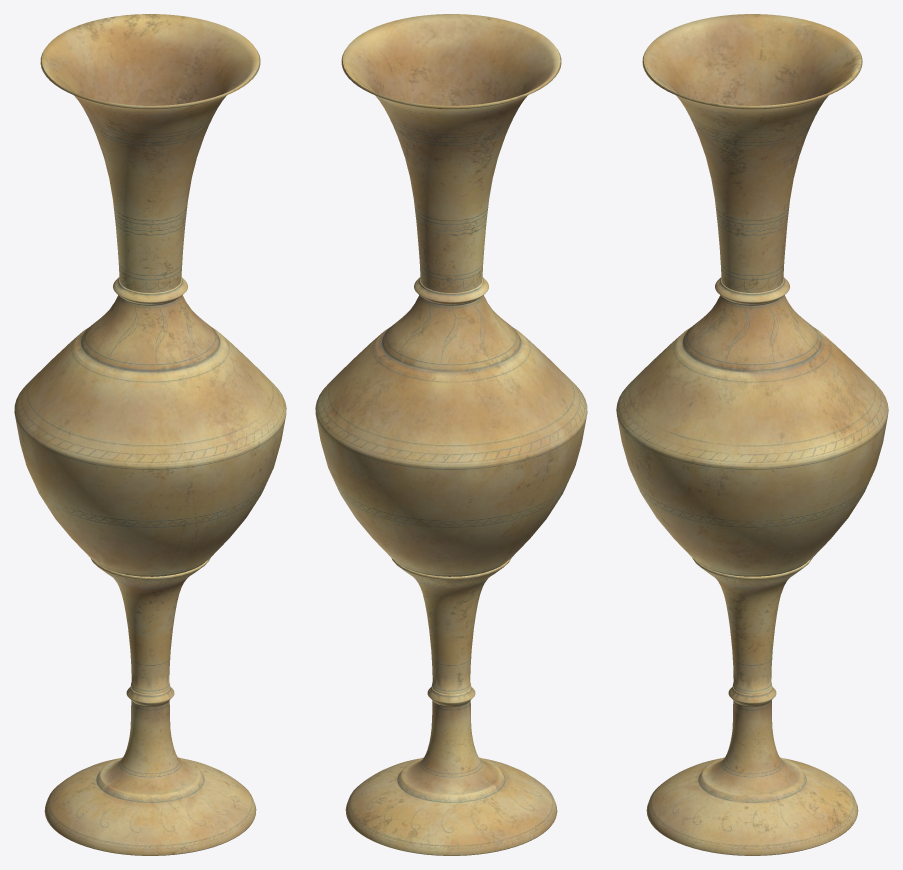
File: brass_vase_01.glb
The picture shows the model from 3 angles, left to right: view 1: azimuth 30°, elevation 25°; view 2: azimuth 150°, elevation 25°; view 3: azimuth 270°, elevation 25°; orthographic projection.
Parts seen in each view (by area): view 1: brass_vase_01; view 2: brass_vase_01; view 3: brass_vase_01.
Boxes of the visible parts, x1=… form: brass_vase_01: x1=14, y1=14, x2=286, y2=855; brass_vase_01: x1=315, y1=14, x2=587, y2=855; brass_vase_01: x1=616, y1=14, x2=888, y2=855.
Size of the model in its own units: 0.2273 by 0.6925 by 0.2273.
Materials: 1 (1 with a texture image).
